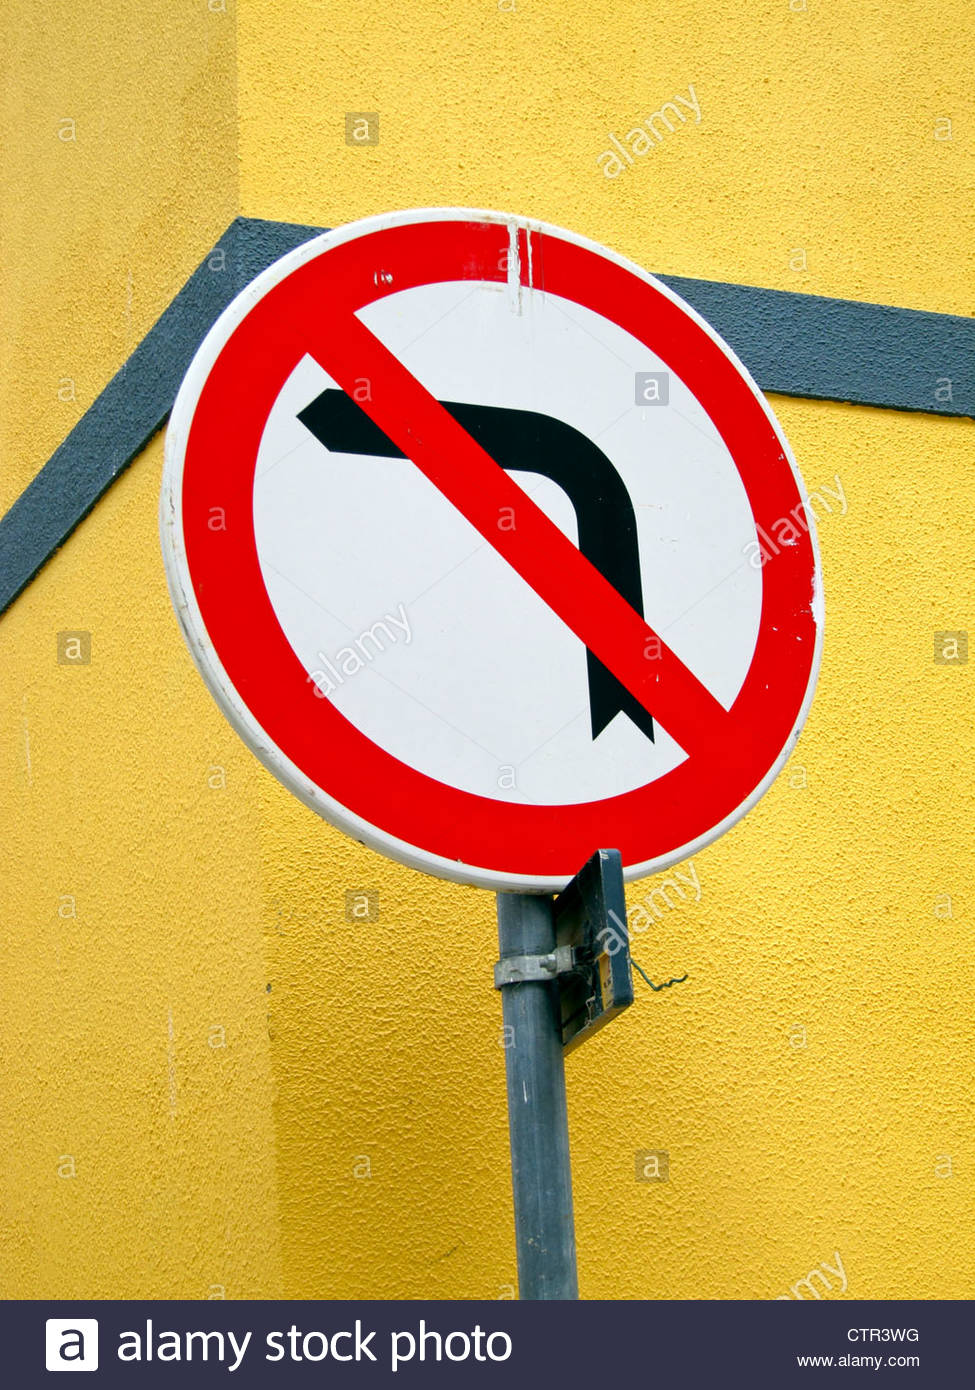No_left_turn: (164, 208, 820, 889)
